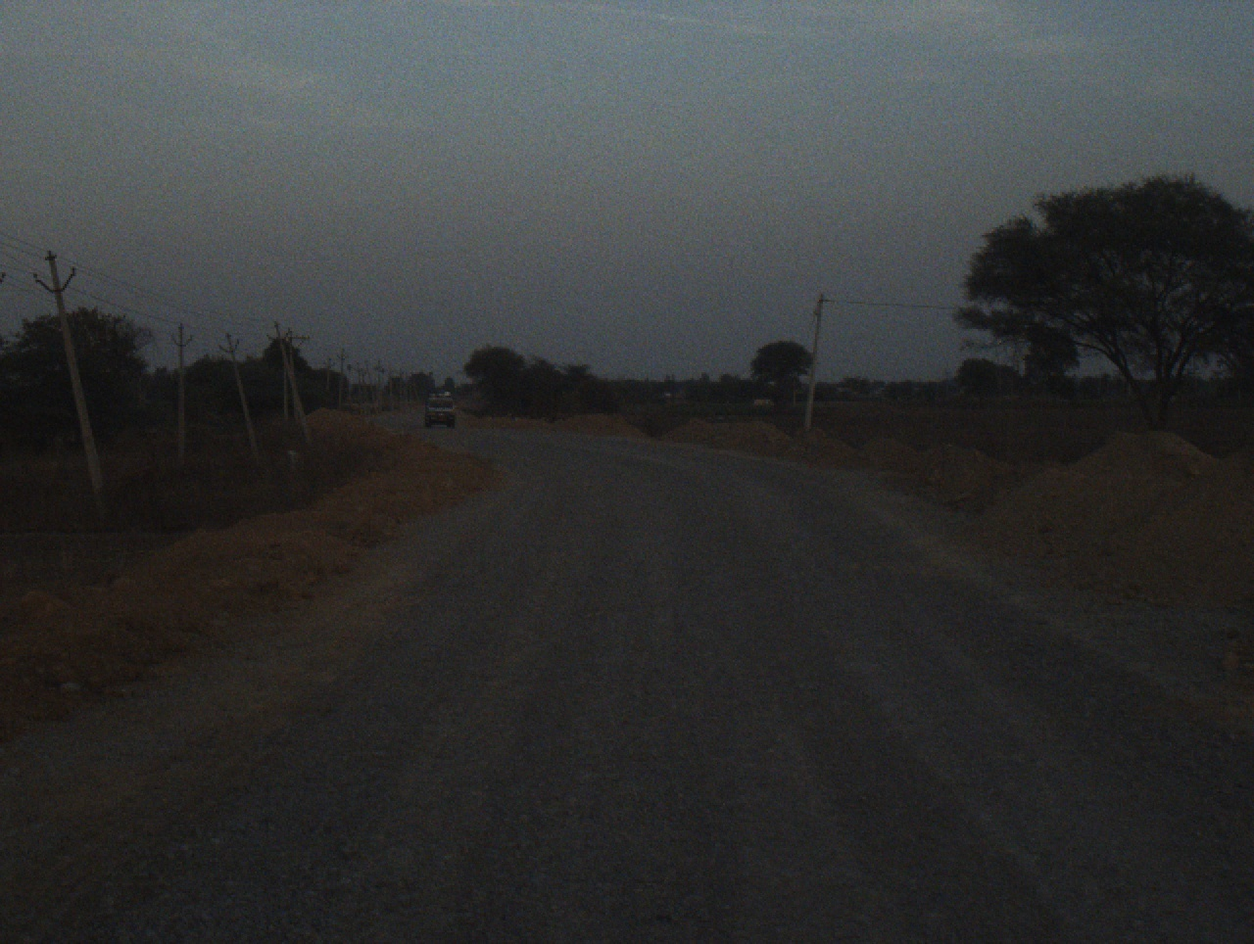car: (422, 379, 458, 431)
